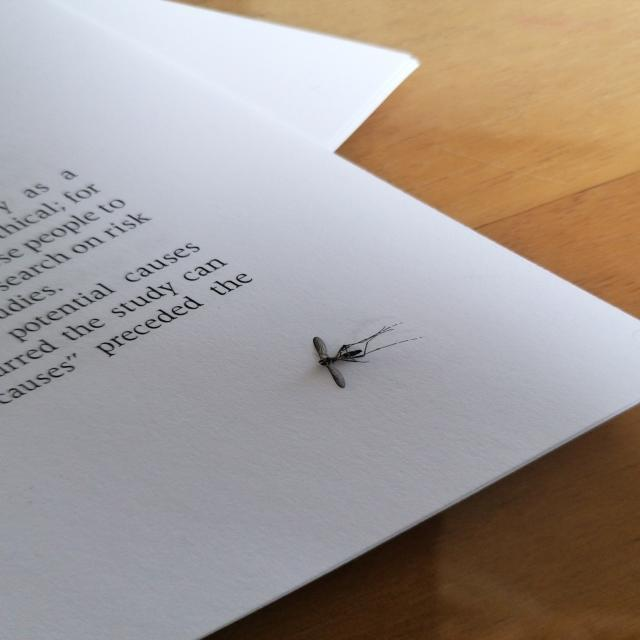albopictus: (294, 319, 426, 391)
